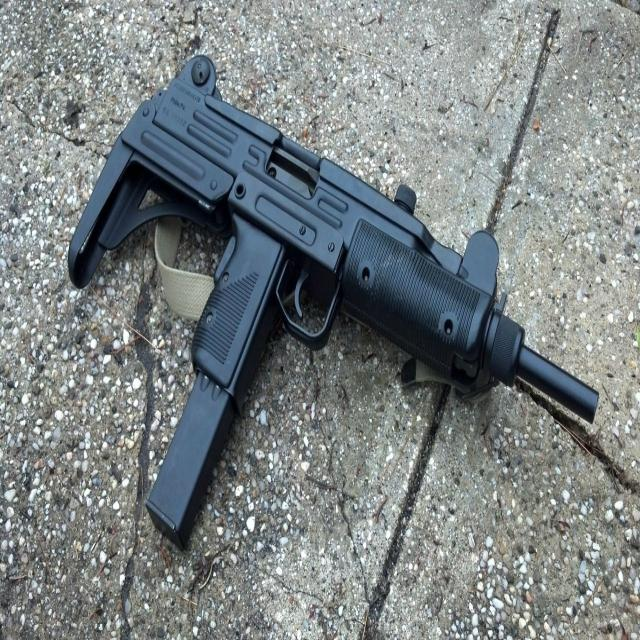firearm: (67, 54, 598, 550)
